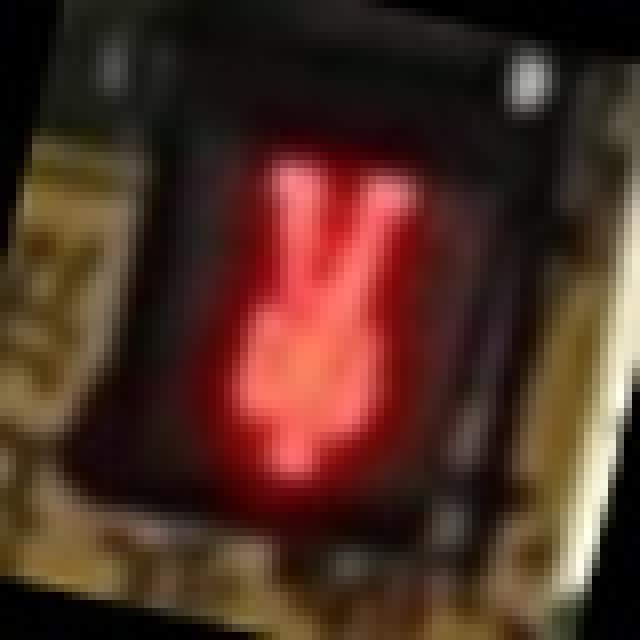red-crossing: (88, 64, 528, 560)
